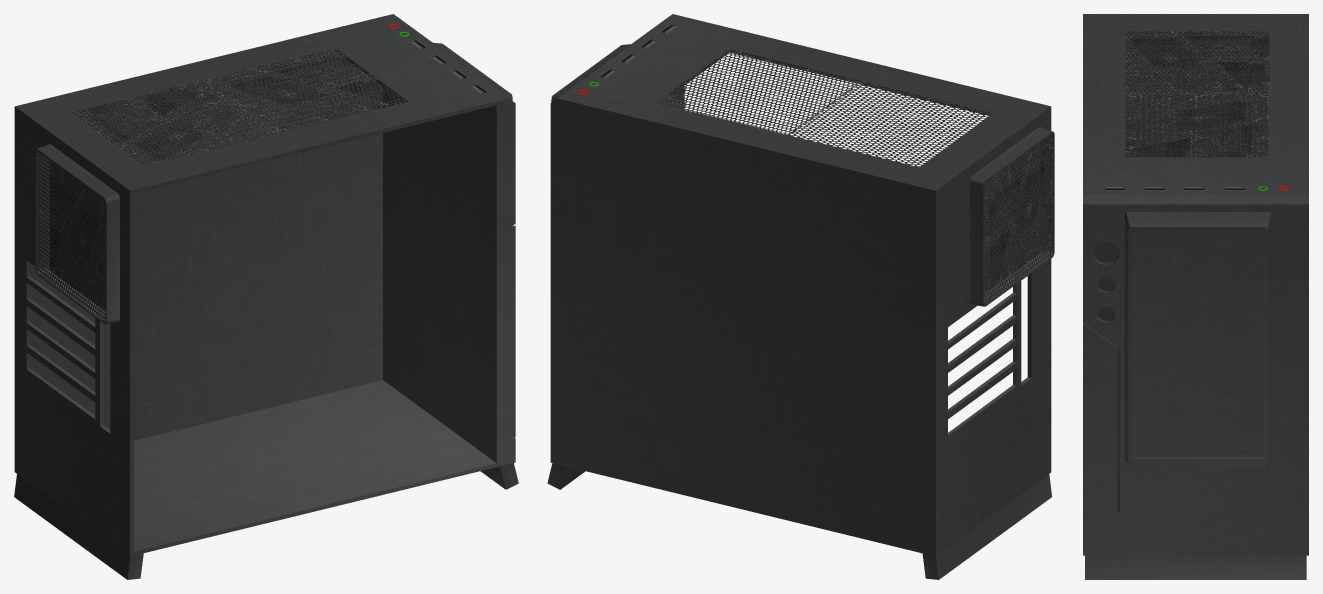
The model's file is chassis.glb.
The picture shows the model from 3 angles, left to right: view 1: azimuth 30°, elevation 25°; view 2: azimuth 150°, elevation 25°; view 3: azimuth 270°, elevation 25°; orthographic projection. The views are drawn at different scales.
Parts seen in each view (by area): view 1: Cube.011_Material.010_0, metal-mesh-500x500_metal-mesh-500x500_0; view 2: Cube.011_Material.010_0, metal-mesh-500x500_metal-mesh-500x500_0; view 3: Cube.011_Material.010_0, metal-mesh-500x500_metal-mesh-500x500_0, usb_usb_0.
Part boxes in pixels (left/top/right/bottom): Cube.011_Material.010_0: left=14, top=14, right=518, bottom=579; metal-mesh-500x500_metal-mesh-500x500_0: left=37, top=48, right=408, bottom=321; Cube.011_Material.010_0: left=547, top=14, right=1054, bottom=579; metal-mesh-500x500_metal-mesh-500x500_0: left=656, top=49, right=1052, bottom=303; Cube.011_Material.010_0: left=1083, top=14, right=1308, bottom=579; metal-mesh-500x500_metal-mesh-500x500_0: left=1125, top=31, right=1269, bottom=157; usb_usb_0: left=1104, top=187, right=1245, bottom=190.
Size of the model in its own units: 3.77 by 3.38 by 1.8.
5 materials, 3 textured.
